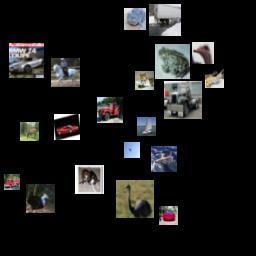airplane: (151, 146, 177, 172), (124, 142, 140, 158)
automobile: (9, 43, 44, 78), (54, 114, 80, 140), (159, 206, 178, 225)
bird: (116, 180, 154, 218), (26, 184, 55, 213), (192, 42, 214, 64)
cat: (205, 69, 224, 88), (135, 71, 154, 90)
deer: (20, 122, 39, 141)
dog: (75, 165, 104, 194)
frog: (155, 44, 190, 79), (124, 8, 146, 30)
ship: (137, 117, 156, 136)
truck: (164, 81, 202, 119), (149, 4, 181, 36), (97, 97, 123, 123), (4, 174, 20, 190)
